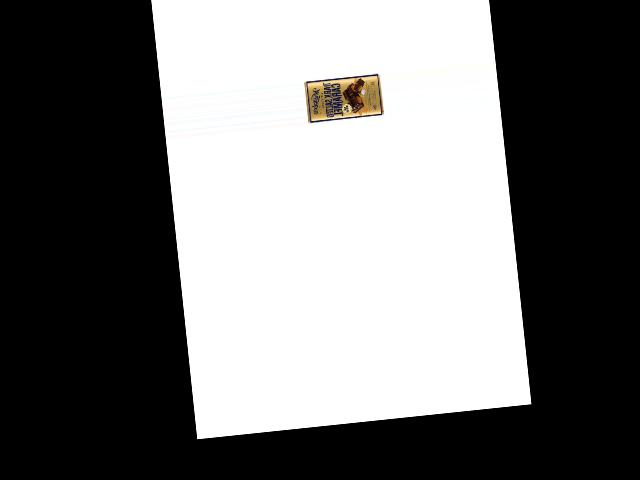chocolate: (304, 72, 386, 126)
